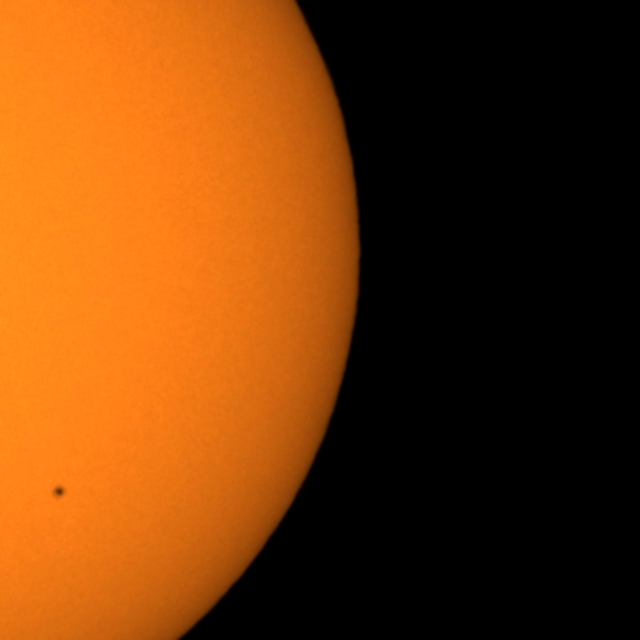sunspot: (49, 483, 68, 502)
